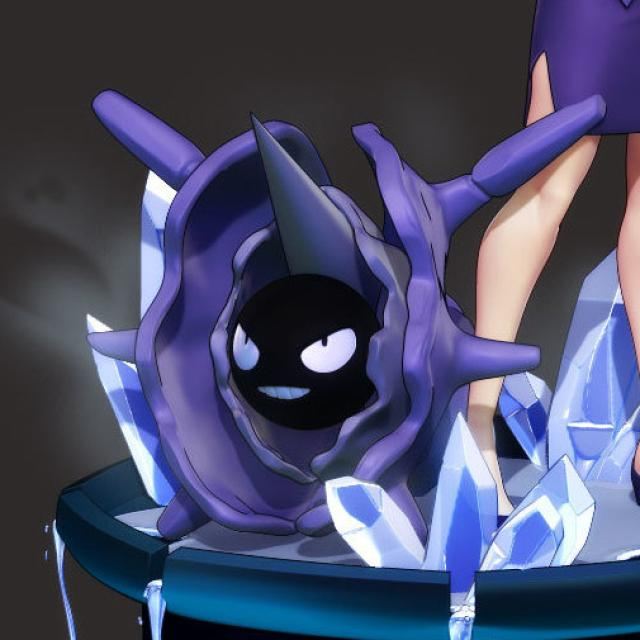Cloyster: (91, 118, 487, 546)
